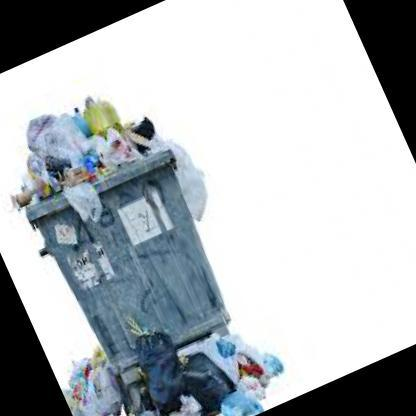Garbage: (0, 65, 168, 205), (153, 315, 300, 415), (92, 333, 211, 415), (47, 339, 143, 415), (162, 136, 222, 226)
